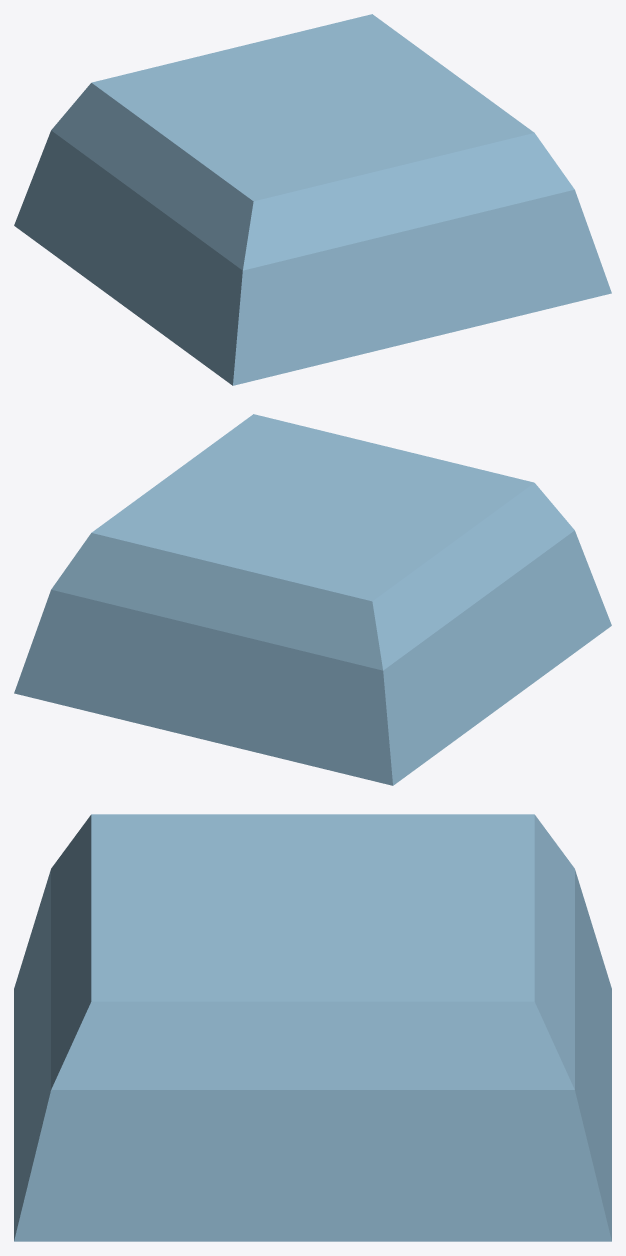
Rendered from BunkerBaseAsset.fbx.
The picture shows the model from 3 angles, top to bottom: view 1: azimuth 30°, elevation 25°; view 2: azimuth 150°, elevation 25°; view 3: azimuth 270°, elevation 25°; orthographic projection. The views are drawn at different scales.
Parts seen in each view (by area): view 1: BunkerBase; view 2: BunkerBase; view 3: BunkerBase.
Part boxes in pixels (x1,y1,x2,y2): BunkerBase: [14, 14, 611, 385]; BunkerBase: [14, 414, 611, 785]; BunkerBase: [14, 814, 611, 1241].
Bounding box in the file's own units: 200 × 76.53 × 200.
